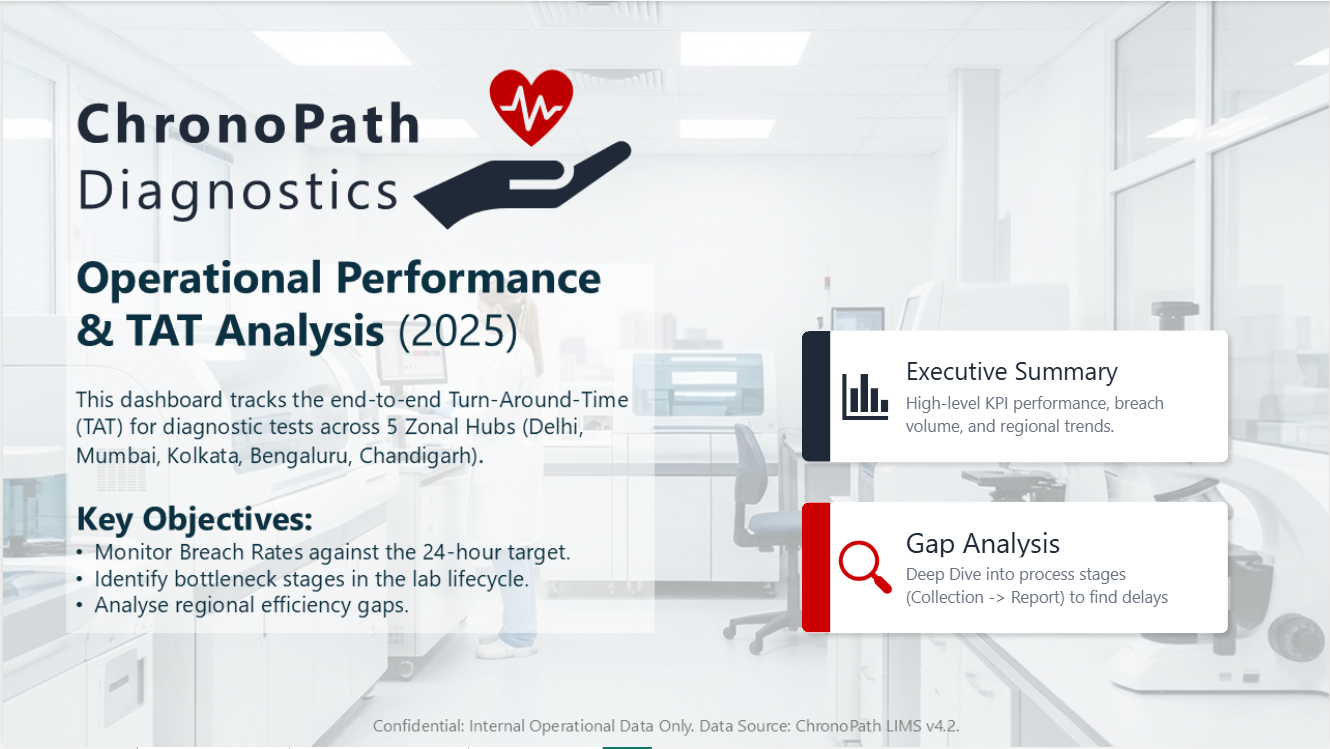

This screenshot's page, from the dashboard's own definition file:
{"tool":"powerbi","page":{"name":"Welcome Page","canvas":[1280,720],"ordinal":0},"visuals":[{"type":"group","id":"g1","title":"Group 1","box":[762.5,308.8,428.3,146],"z":0},{"type":"shape","box":[762.5,308.8,428.9,145.2],"z":0,"group":"g1"},{"type":"shape","box":[762.5,474.1,428.8,145],"z":0,"group":"g2"},{"type":"shape","box":[771.3,318.4,27.7,126.2],"z":1000,"group":"g1"},{"type":"group","id":"g2","title":"Group 2","box":[762.5,474.1,428.3,144.8],"z":1000},{"type":"shape","box":[771.2,483.7,27.7,126],"z":1000,"group":"g2"},{"type":"image","box":[799,350.7,67.1,62.8],"z":2000,"group":"g1"},{"type":"textbox","box":[866.3,499.1,231.2,47.5],"z":2000,"group":"g2"},{"type":"actionButton","box":[771.3,317.6,413.8,128.8],"z":3000,"group":"g1"},{"type":"actionButton","box":[771.3,484.1,410,126.2],"z":3000,"group":"g2"},{"type":"textbox","box":[866.3,335,231.2,46.2],"z":4000,"group":"g1"},{"type":"textbox","box":[866.4,537.2,294.9,58],"z":4000,"group":"g2"},{"type":"textbox","box":[866.4,372,295,58.1],"z":5000,"group":"g1"},{"type":"image","box":[798.4,514.9,67.1,62.7],"z":5000,"group":"g2"}]}

Visuals, with their boxes in screenshot pixels (x1, y1, x2, y2), scaled from the page's 1280x720 canvas onto the 1330x749 screenshot:
"Group 1" group: 792,321,1237,473
shape: 792,321,1238,472
shape: 792,493,1238,644
shape: 801,331,830,463
"Group 2" group: 792,493,1237,644
shape: 801,503,830,634
image: 830,365,900,430
textbox: 900,519,1140,569
actionButton: 801,330,1231,464
actionButton: 801,504,1227,635
textbox: 900,348,1140,397
textbox: 900,559,1207,619
textbox: 900,387,1207,447
image: 830,536,899,601
